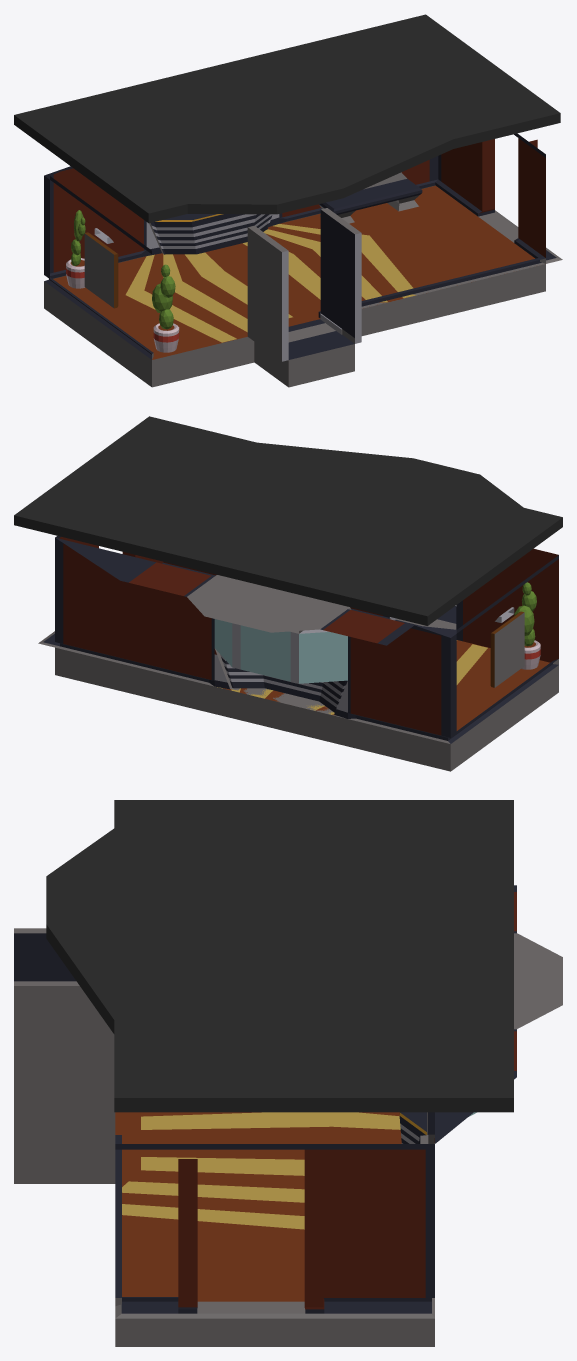
Rendered from lobby3.fbx.
The picture shows the model from 3 angles, top to bottom: view 1: azimuth 30°, elevation 25°; view 2: azimuth 150°, elevation 25°; view 3: azimuth 270°, elevation 25°; orthographic projection. The views are drawn at different scales.
Visible parts, largest first — view 1: lobby, lobbyCeiling; view 2: lobby, lobbyCeiling; view 3: lobbyCeiling, lobby.
Boxes of the visible parts, box(x1,y1,x2,y2) form: lobby: box(44, 133, 562, 387); lobbyCeiling: box(14, 14, 560, 223); lobby: box(38, 536, 558, 771); lobbyCeiling: box(14, 416, 562, 625); lobbyCeiling: box(46, 800, 513, 1112); lobby: box(14, 885, 562, 1346).
Bounding box in the file's own units: 1109 × 448 × 859.
